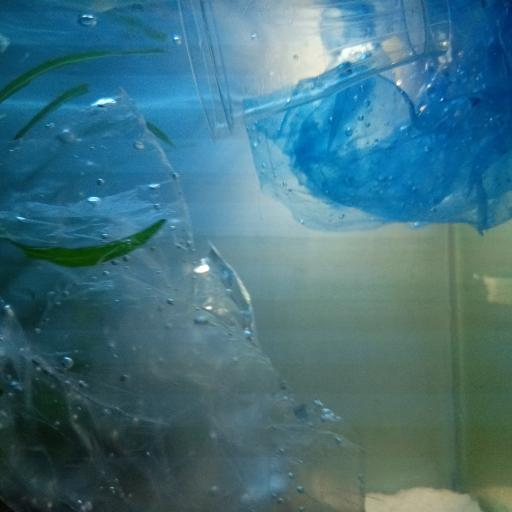plastic_bag: (1, 98, 363, 512), (244, 0, 512, 236)
plastic_cup: (178, 2, 453, 138)
